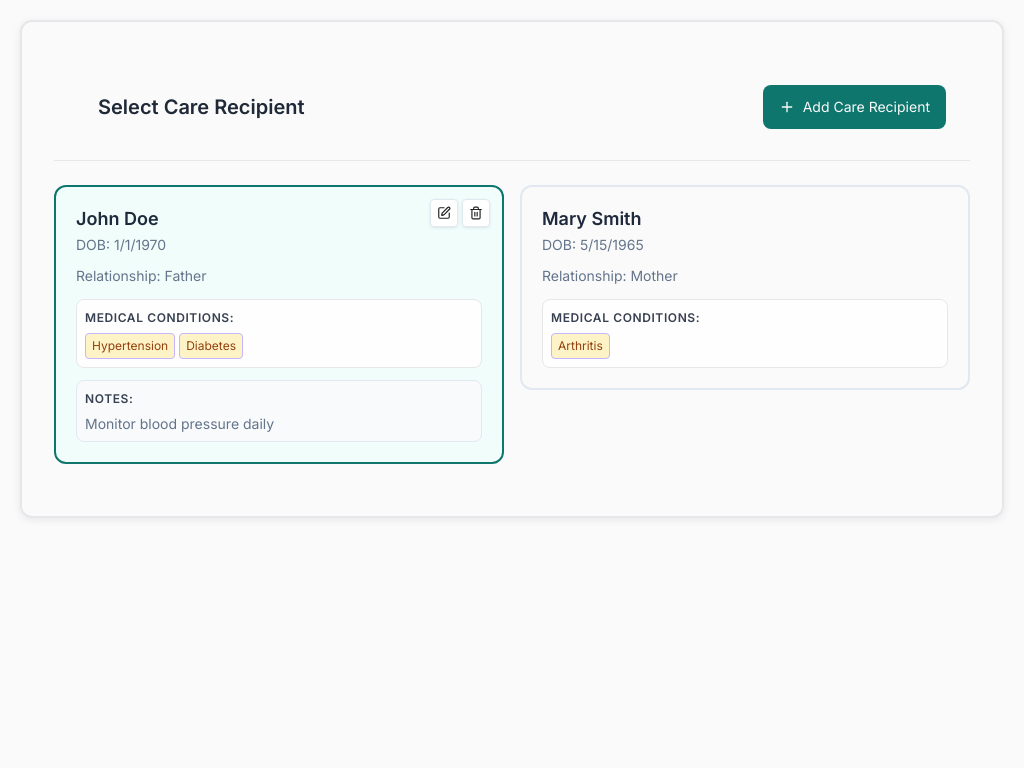
Scenario: CareRecipientSelector › opens edit modal when edit button is clicked
Click Edit button (which appears on selected card)
Click the button titled "Edit recipient".
click(444, 213)  # box [430,199,458,227]
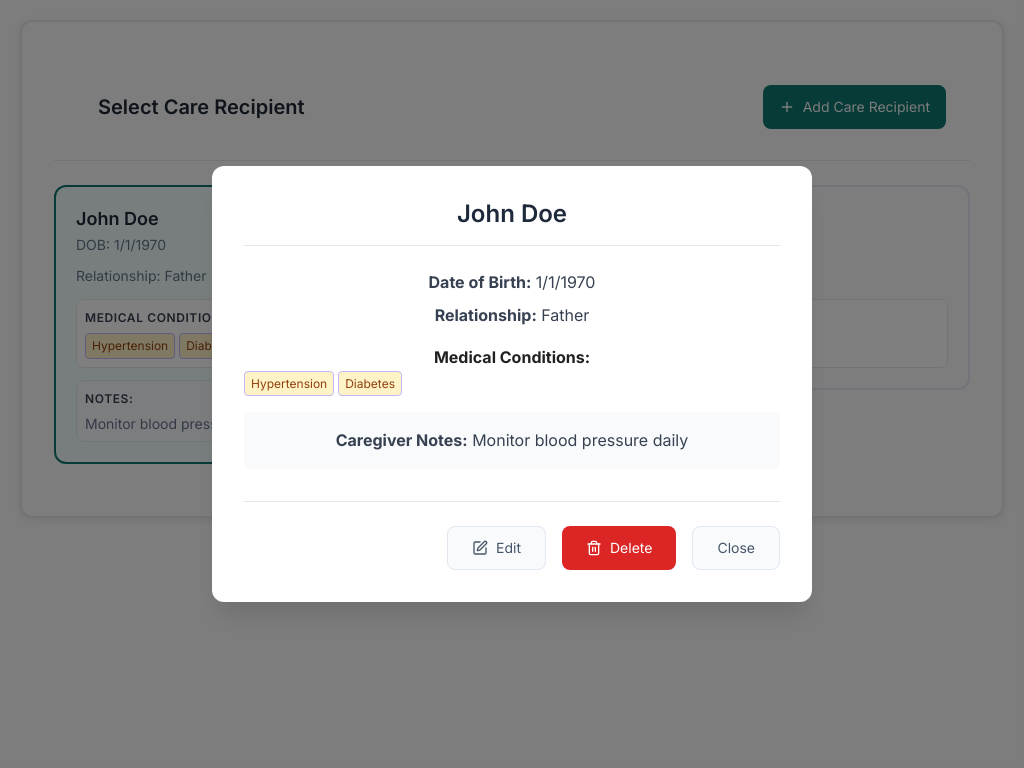
expect the button "Edit" is shown: met
Click the Edit button in the modal
Click the button "Edit".
click(496, 548)  # box [447,526,546,570]
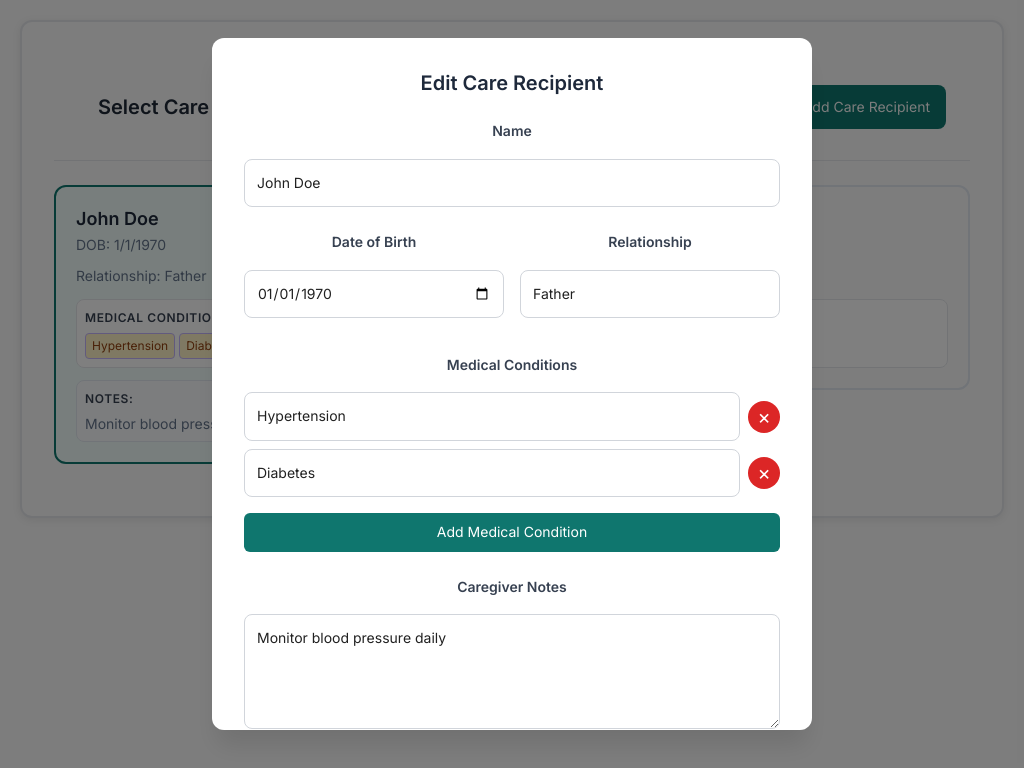
expect the heading "Edit Care Recipient" is shown: met, box [421,71,604,95]
expect the field showing "John Doe" below "Name" is shown: met, box [244,159,780,207]
expect the field showing "Father" below "Date of Birth" is shown: met, box [520,270,780,318]
